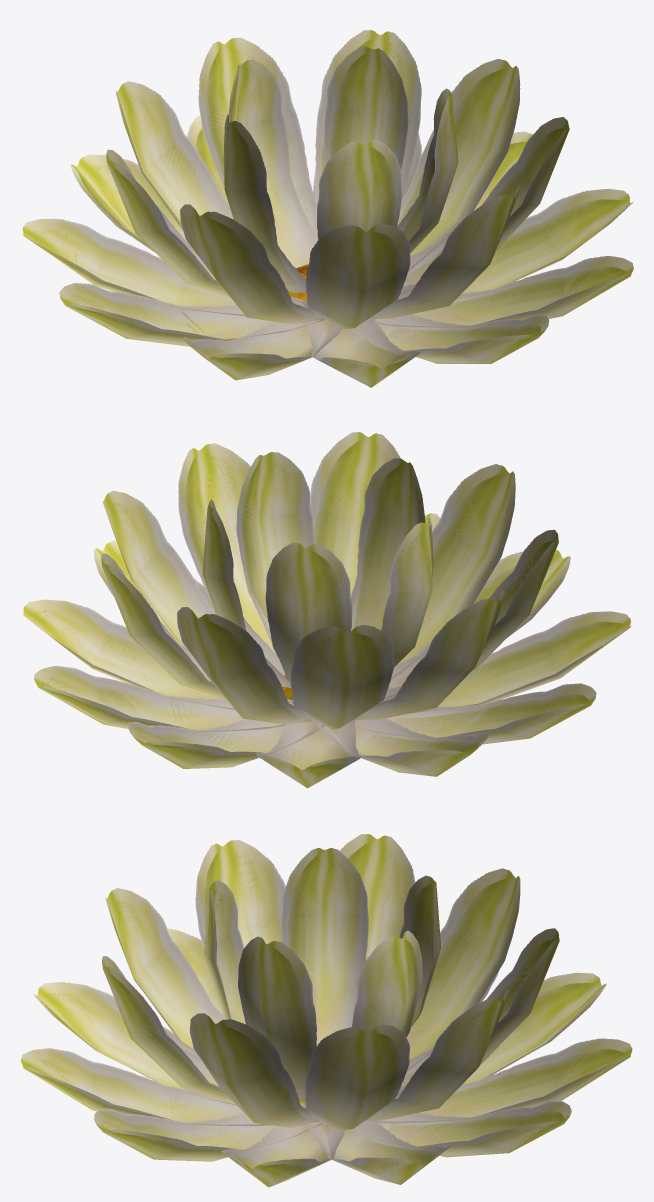
File: Waterlily_Flower_02.FBX
The picture shows the model from 3 angles, top to bottom: view 1: azimuth 30°, elevation 25°; view 2: azimuth 150°, elevation 25°; view 3: azimuth 270°, elevation 25°; orthographic projection.
Parts seen in each view (by area): view 1: Nenuphar_Flower_02; view 2: Nenuphar_Flower_02; view 3: Nenuphar_Flower_02.
Part boxes in pixels (x1=…): Nenuphar_Flower_02: x1=22, y1=30, x2=633, y2=387; Nenuphar_Flower_02: x1=23, y1=432, x2=631, y2=788; Nenuphar_Flower_02: x1=21, y1=834, x2=632, y2=1187.
Bounding box in the file's own units: 0.4413 × 0.1832 × 0.4417.
